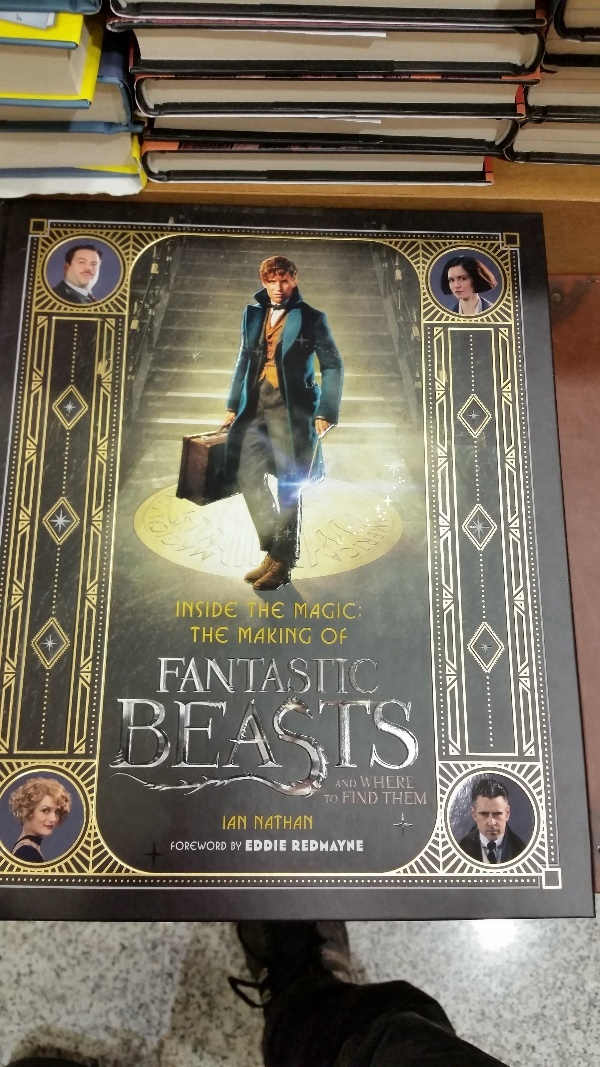text: (129, 694, 144, 825), (145, 694, 160, 825), (161, 694, 176, 825), (177, 694, 192, 825), (193, 694, 208, 825), (209, 694, 224, 825), (225, 694, 240, 825), (241, 694, 256, 825), (257, 694, 272, 825), (273, 694, 288, 825), (289, 694, 304, 825), (305, 694, 320, 825), (321, 694, 336, 825), (337, 694, 352, 825), (353, 694, 368, 825), (369, 694, 384, 825), (385, 694, 400, 825), (401, 694, 416, 825), (117, 694, 128, 825), (417, 694, 423, 825), (161, 657, 176, 698), (177, 657, 192, 698), (193, 657, 208, 698), (209, 657, 224, 698), (225, 657, 240, 698), (241, 657, 256, 698), (257, 657, 272, 698), (273, 657, 288, 698), (289, 657, 304, 698), (305, 657, 320, 698), (321, 657, 336, 698), (337, 657, 352, 698), (353, 657, 368, 698), (369, 657, 378, 698), (241, 626, 256, 646), (257, 626, 272, 646), (273, 626, 288, 646), (289, 626, 304, 646), (257, 602, 272, 621), (305, 601, 320, 620), (321, 601, 336, 620), (337, 601, 352, 620), (321, 627, 336, 645), (193, 601, 208, 618), (209, 601, 224, 618), (193, 627, 208, 644), (209, 627, 224, 644), (178, 601, 192, 618), (257, 815, 272, 830), (273, 815, 288, 830), (289, 815, 304, 830), (225, 601, 238, 618), (225, 816, 240, 830), (353, 791, 368, 805), (385, 792, 400, 806), (401, 792, 416, 806), (369, 776, 384, 790), (385, 776, 400, 790), (273, 602, 284, 621), (337, 627, 348, 645), (401, 776, 415, 790), (257, 840, 272, 852), (305, 840, 320, 852), (321, 840, 336, 852), (337, 840, 352, 852), (247, 602, 256, 621), (295, 601, 304, 620), (273, 840, 286, 852), (353, 601, 361, 620), (177, 842, 192, 852), (193, 842, 208, 852), (209, 842, 224, 852), (417, 792, 427, 806), (293, 840, 304, 852), (338, 780, 352, 789), (343, 791, 352, 805), (369, 791, 378, 805), (305, 626, 311, 646), (246, 840, 256, 852), (353, 840, 363, 852), (324, 795, 336, 805), (360, 776, 368, 790), (305, 815, 312, 830), (241, 816, 247, 830), (158, 657, 160, 698), (232, 842, 240, 851), (225, 627, 228, 644), (171, 842, 176, 852), (353, 780, 356, 789), (239, 626, 240, 646), (225, 842, 227, 852), (191, 627, 192, 644), (255, 815, 256, 830), (383, 792, 384, 806), (337, 795, 338, 805), (241, 842, 242, 851)
